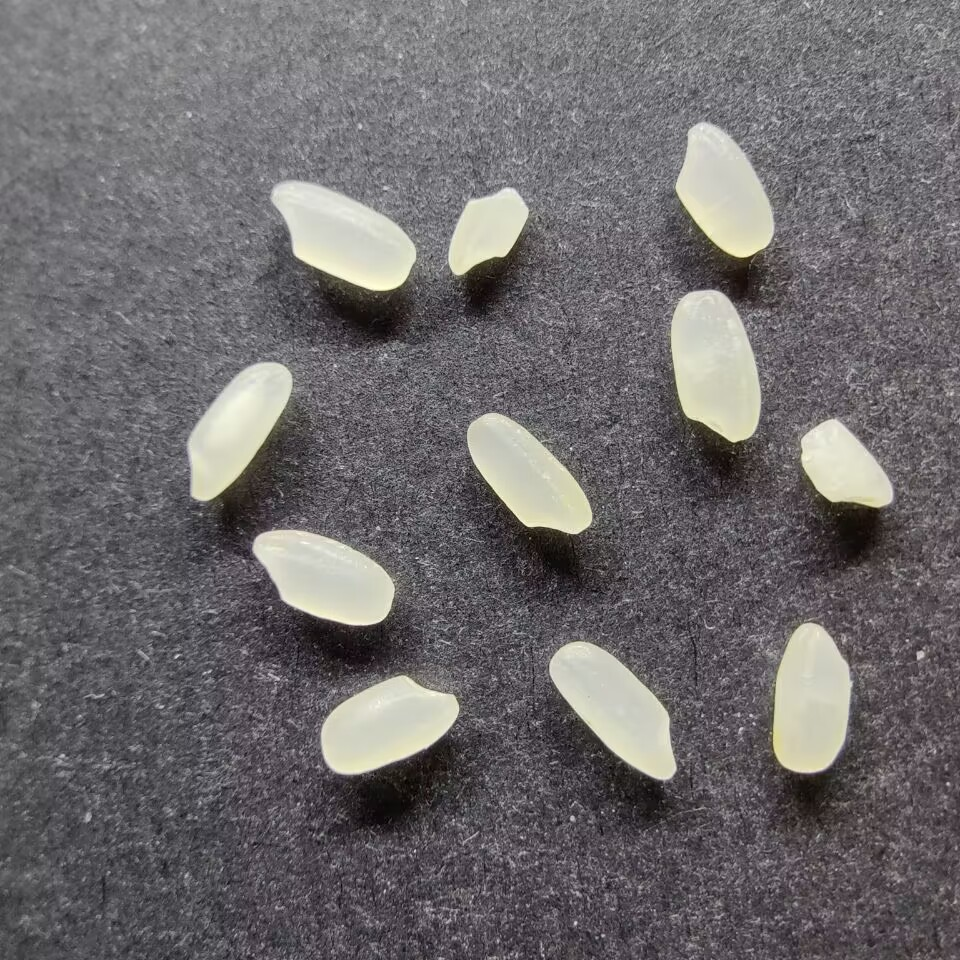broken: (798, 417, 897, 508), (446, 186, 530, 277)
rice: (547, 639, 679, 781), (269, 179, 417, 292), (464, 411, 595, 535), (185, 359, 295, 503), (667, 288, 763, 444), (320, 673, 460, 777), (673, 120, 777, 259), (250, 528, 396, 627), (770, 619, 853, 775)
